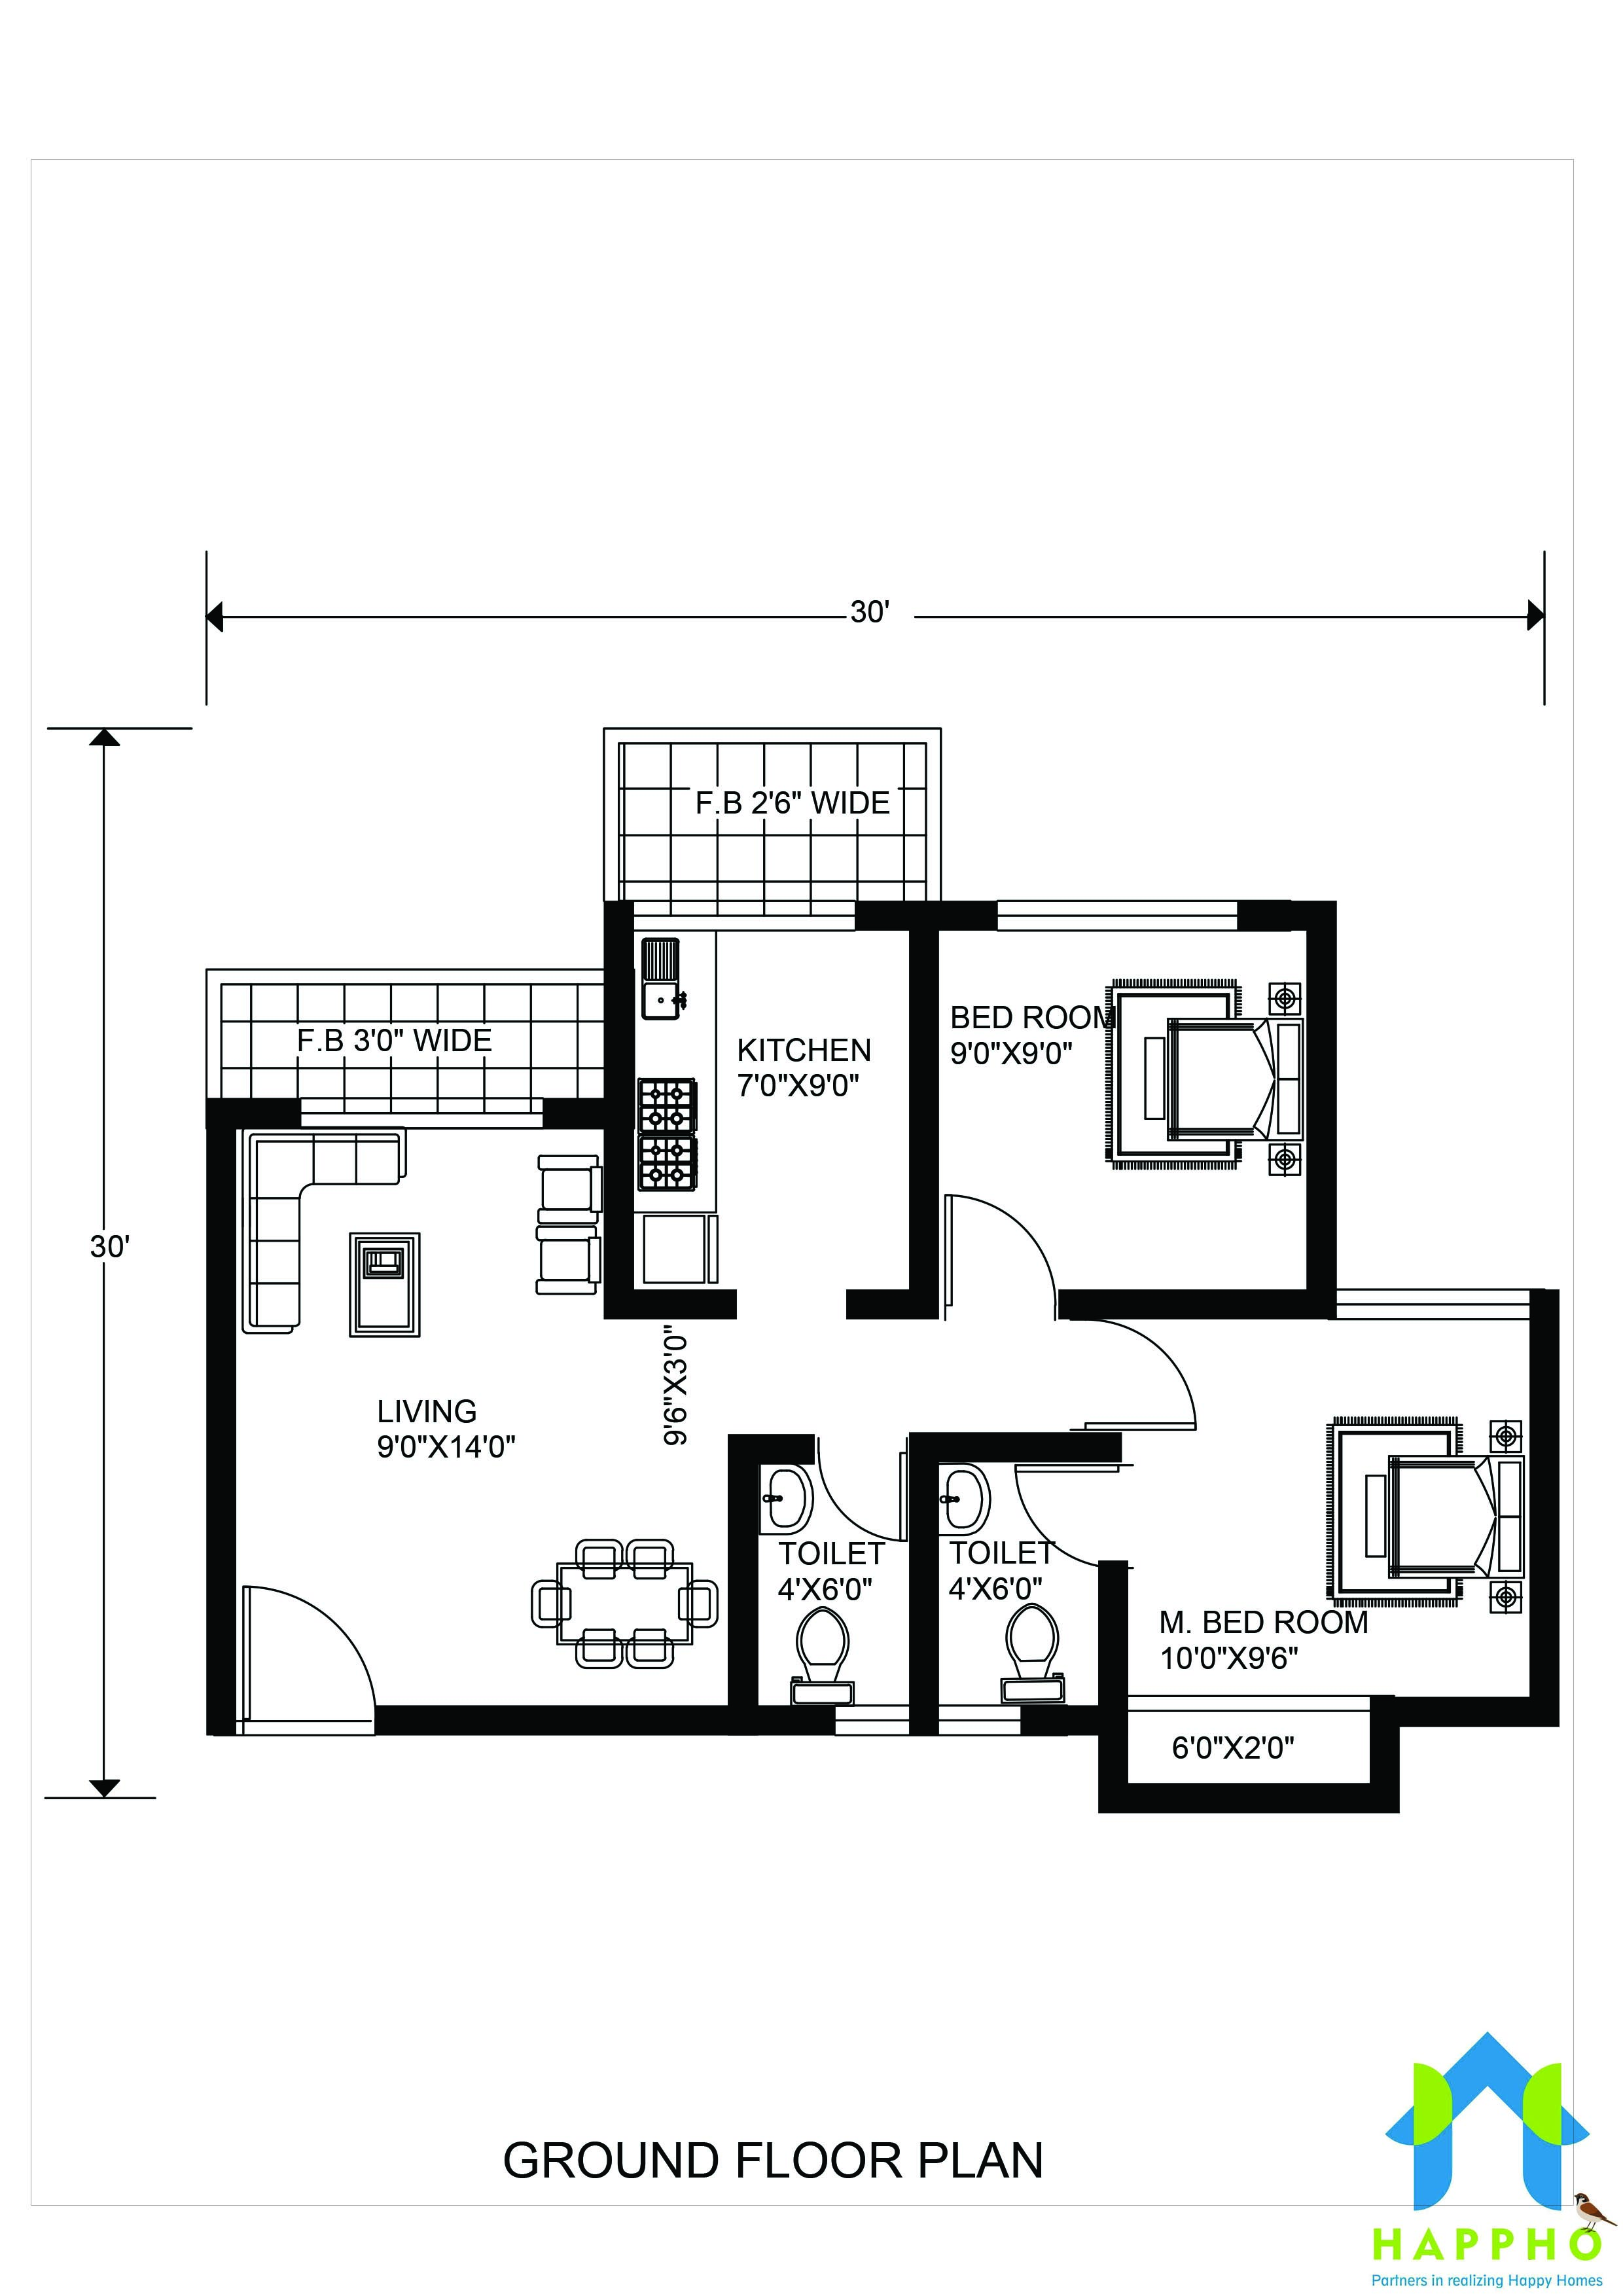window: (994, 896, 1244, 938), (1331, 1284, 1533, 1325), (934, 1700, 1022, 1743), (829, 1699, 915, 1741)
